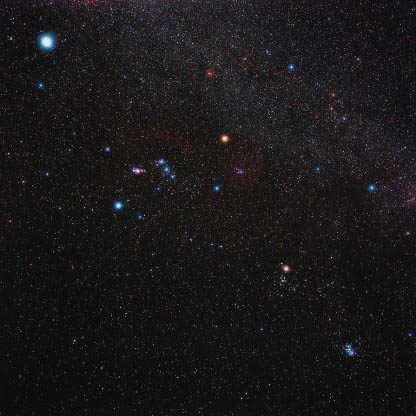Orion: (106, 195, 127, 216), (210, 178, 229, 200), (214, 130, 233, 147), (97, 137, 112, 157), (156, 152, 167, 167), (169, 173, 182, 179), (164, 168, 171, 175)
